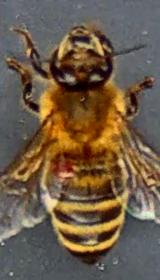varroa_mite: (42, 140, 82, 187)
